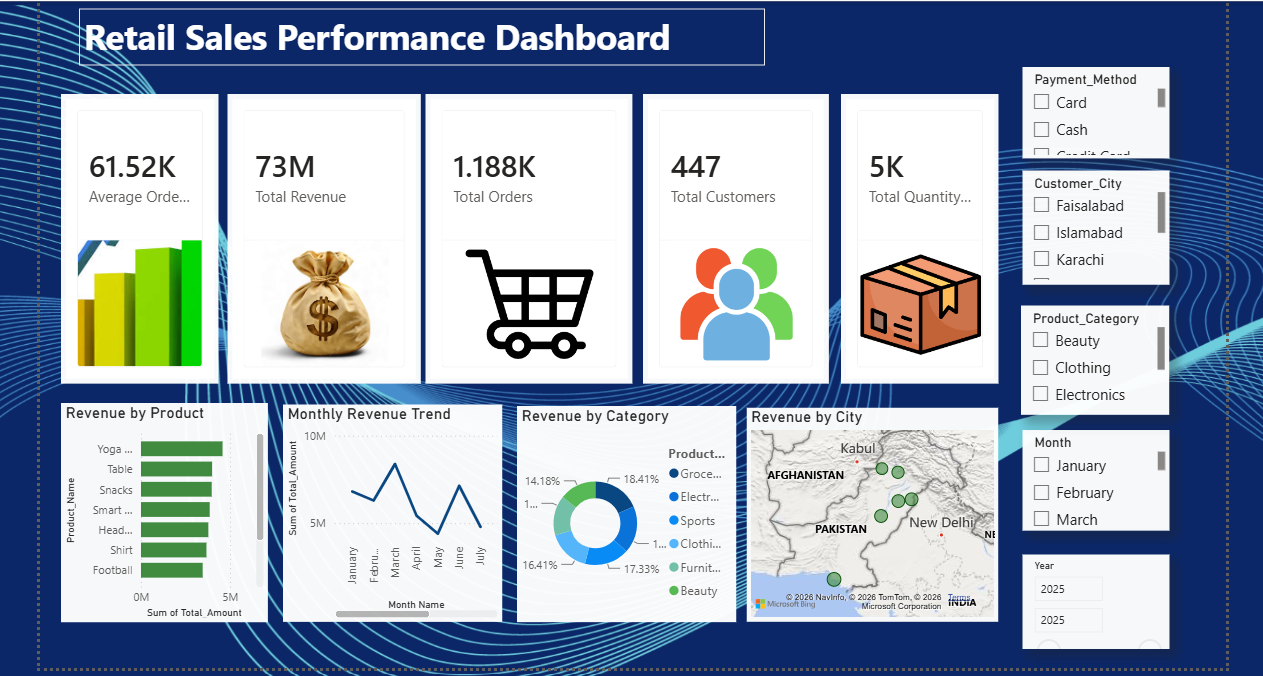

The page's visual inventory and layout, read from the dashboard file:
{"tool":"powerbi","page":{"name":"Page 1","canvas":[1280,720],"ordinal":0},"visuals":[{"type":"cardVisual","fields":{"Data":["Sum(Cleaned_Retail_Sales_Dataset.Total_Amount)"]},"box":[202.4,100.4,208.9,312.5],"z":0},{"type":"cardVisual","fields":{"Data":["Count(Cleaned_Retail_Sales_Dataset.Transaction_ID)"]},"box":[416.1,100.4,223.5,312.5],"z":1000},{"type":"cardVisual","fields":{"Data":["Avg(Cleaned_Retail_Sales_Dataset.Total_Amount)"]},"box":[22.7,100.4,170,312.5],"z":2000},{"type":"clusteredBarChart","title":"Revenue by Product","fields":{"Category":["Cleaned_Retail_Sales_Dataset.Product_Name"],"Y":["Sum(Cleaned_Retail_Sales_Dataset.Total_Amount)"]},"box":[22.7,434,223.5,236.4],"z":3000},{"type":"lineChart","title":"Monthly Revenue Trend","fields":{"Y":["Sum(Cleaned_Retail_Sales_Dataset.Total_Amount)"],"Category":["Cleaned_Retail_Sales_Dataset.Month Name"]},"box":[262.3,435.6,236.4,234.8],"z":4000},{"type":"donutChart","title":"Revenue by Category","fields":{"Category":["Cleaned_Retail_Sales_Dataset.Product_Category"],"Y":["Sum(Cleaned_Retail_Sales_Dataset.Total_Amount)"]},"box":[514.9,437.2,236.4,233.2],"z":5000},{"type":"map","title":"Revenue by City","fields":{"Category":["Cleaned_Retail_Sales_Dataset.Customer_City"],"Size":["Sum(Cleaned_Retail_Sales_Dataset.Total_Amount)"]},"box":[762.7,438.8,272,231.5],"z":6000},{"type":"textbox","box":[41.6,7.6,740.8,62.4],"z":7000},{"type":"cardVisual","fields":{"Data":["Cleaned_Retail_Sales_Dataset.Total Customers"]},"box":[650.9,100.4,200.8,312.5],"z":8000},{"type":"cardVisual","fields":{"Data":["Cleaned_Retail_Sales_Dataset.Total Quantity Sold"]},"box":[864.7,100.4,170,312.5],"z":9000},{"type":"slicer","fields":{"Values":["Cleaned_Retail_Sales_Dataset.Payment_Method"]},"box":[1060.6,71.2,158.7,98.8],"z":10000},{"type":"slicer","fields":{"Values":["Cleaned_Retail_Sales_Dataset.Purchase_Date.Variation.Date Hierarchy.Year"]},"box":[1060.6,597.5,158.7,102],"z":11000},{"type":"slicer","fields":{"Values":["Cleaned_Retail_Sales_Dataset.Purchase_Date.Variation.Date Hierarchy.Month"]},"box":[1060.6,463.1,158.7,108.5],"z":12000},{"type":"slicer","fields":{"Values":["Cleaned_Retail_Sales_Dataset.Product_Category"]},"box":[1059,328.7,160.3,118.2],"z":13000},{"type":"slicer","fields":{"Values":["Cleaned_Retail_Sales_Dataset.Customer_City"]},"box":[1060.6,183,158.7,123.1],"z":14000}]}

Visuals, with their boxes in screenshot pixels (x1, y1, x2, y2):
cardVisual - Sum(Cleaned_Retail_Sales_Dataset.Total_Amount): bbox(224, 90, 418, 380)
cardVisual - Count(Cleaned_Retail_Sales_Dataset.Transaction_ID): bbox(422, 90, 630, 380)
cardVisual - Avg(Cleaned_Retail_Sales_Dataset.Total_Amount): bbox(57, 90, 215, 380)
"Revenue by Product" clusteredBarChart: bbox(57, 399, 265, 619)
"Monthly Revenue Trend" lineChart: bbox(280, 401, 499, 619)
"Revenue by Category" donutChart: bbox(514, 402, 733, 619)
"Revenue by City" map: bbox(744, 404, 996, 619)
textbox: bbox(75, 4, 762, 62)
cardVisual - Cleaned_Retail_Sales_Dataset.Total Customers: bbox(640, 90, 827, 380)
cardVisual - Cleaned_Retail_Sales_Dataset.Total Quantity Sold: bbox(839, 90, 996, 380)
slicer - Cleaned_Retail_Sales_Dataset.Payment_Method: bbox(1020, 63, 1168, 154)
slicer - Cleaned_Retail_Sales_Dataset.Purchase_Date.Variation.Date Hierarchy.Year: bbox(1020, 551, 1168, 646)
slicer - Cleaned_Retail_Sales_Dataset.Purchase_Date.Variation.Date Hierarchy.Month: bbox(1020, 426, 1168, 527)
slicer - Cleaned_Retail_Sales_Dataset.Product_Category: bbox(1019, 302, 1168, 411)
slicer - Cleaned_Retail_Sales_Dataset.Customer_City: bbox(1020, 167, 1168, 281)
